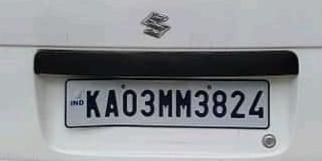0: (120, 86, 138, 118)
2: (230, 88, 247, 121)
3: (139, 86, 156, 120), (193, 88, 210, 121)
4: (249, 86, 268, 124)
8: (211, 88, 228, 120)
A: (104, 86, 119, 119)
K: (84, 86, 102, 118)
M: (175, 88, 192, 121), (158, 87, 174, 120)
